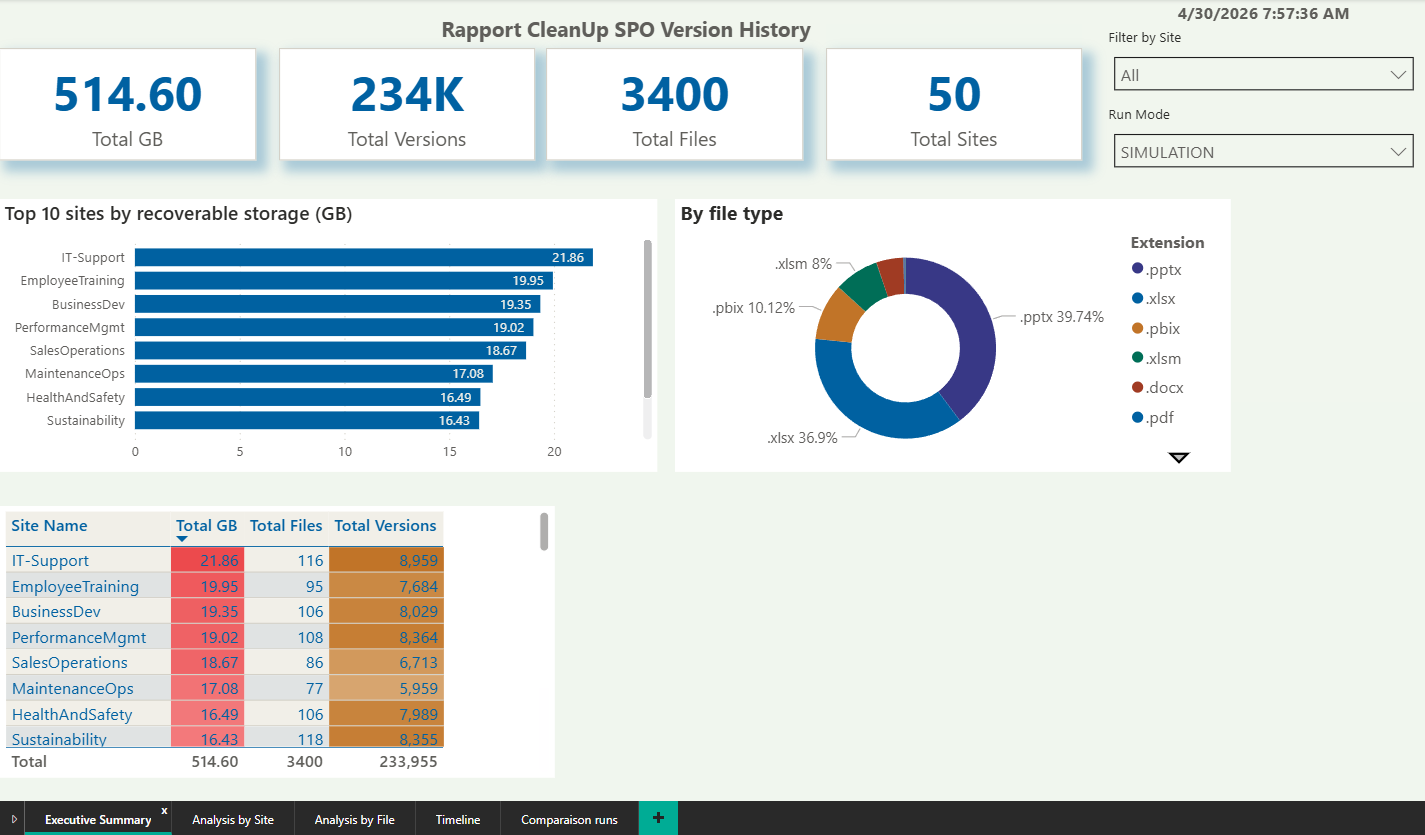

This screenshot's page, from the dashboard's own definition file:
{"tool":"powerbi","page":{"name":"Executive Summary","canvas":[1280,720],"ordinal":0},"visuals":[{"type":"card","fields":{"Values":["fact_VersionReport.Total GB"]},"box":[0,43.8,230.5,101.2],"z":0},{"type":"card","fields":{"Values":["fact_VersionReport.Total Versions"]},"box":[250.9,43.8,229.5,101.2],"z":1000},{"type":"card","fields":{"Values":["fact_VersionReport.Total Fichiers"]},"box":[491.2,43.8,230.5,101.2],"z":2000},{"type":"card","fields":{"Values":["fact_VersionReport.Total Sites"]},"box":[742.1,43.8,229.5,101.2],"z":3000},{"type":"clusteredBarChart","title":"Top 10 sites  espace récupérable (GB)","fields":{"Category":["fact_VersionReport.Nom du Site"],"Y":["fact_VersionReport.Total GB"]},"box":[0,179.9,591.4,245.1],"z":4000},{"type":"donutChart","title":"Par type de fichier","fields":{"Category":["fact_VersionReport.Extension"],"Y":["fact_VersionReport.Total GB"]},"box":[606.9,179.9,499,245.1],"z":5000},{"type":"tableEx","fields":{"Values":["fact_VersionReport.Nom du Site","fact_VersionReport.Total GB","fact_VersionReport.Total Fichiers","fact_VersionReport.Total Versions"]},"box":[0,455.2,499,244.1],"z":6000},{"type":"slicer","title":"Filter by Site","fields":{"Values":["fact_VersionReport.Nom du Site"]},"box":[991.1,43.8,288.9,69.1],"z":7000},{"type":"card","fields":{"Values":["Min(LastRefreshDate.LastRefreshDate)"]},"box":[991.1,0,288.9,25.3],"z":8000},{"type":"textbox","box":[295.7,8.8,535,35],"z":9000}]}

Visuals, with their boxes on the page's 1280x720 design canvas (x1, y1, x2, y2). These are canvas units, not pixel positions in the 1425x835 screenshot, which may show the page scaled, cropped or inside an application window:
card - fact_VersionReport.Total GB: {"left": 0, "top": 44, "right": 230, "bottom": 145}
card - fact_VersionReport.Total Versions: {"left": 251, "top": 44, "right": 480, "bottom": 145}
card - fact_VersionReport.Total Fichiers: {"left": 491, "top": 44, "right": 722, "bottom": 145}
card - fact_VersionReport.Total Sites: {"left": 742, "top": 44, "right": 972, "bottom": 145}
"Top 10 sites  espace récupérable (GB)" clusteredBarChart: {"left": 0, "top": 180, "right": 591, "bottom": 425}
"Par type de fichier" donutChart: {"left": 607, "top": 180, "right": 1106, "bottom": 425}
tableEx - fact_VersionReport.Nom du Site x fact_VersionReport.Total GB: {"left": 0, "top": 455, "right": 499, "bottom": 699}
"Filter by Site" slicer: {"left": 991, "top": 44, "right": 1280, "bottom": 113}
card - Min(LastRefreshDate.LastRefreshDate): {"left": 991, "top": 0, "right": 1280, "bottom": 25}
textbox: {"left": 296, "top": 9, "right": 831, "bottom": 44}
